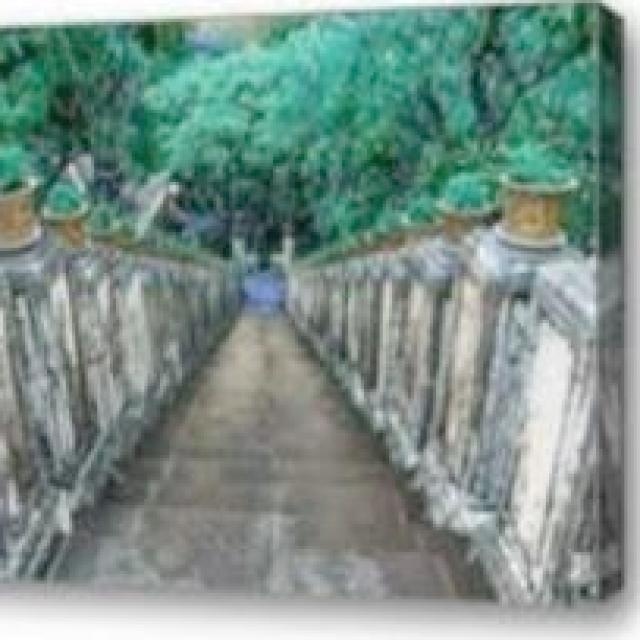downstair: (74, 425, 422, 604)
